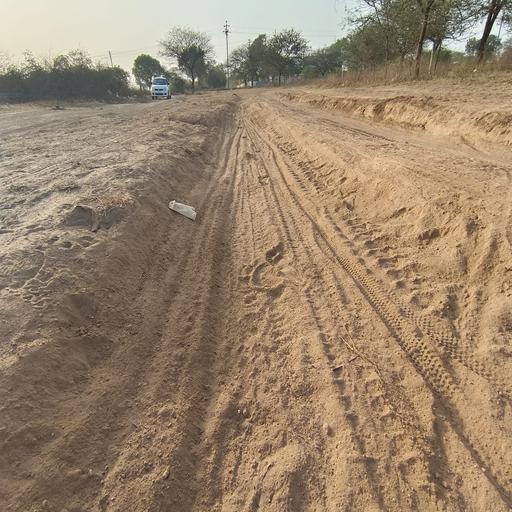vehicle_track: (68, 111, 512, 512), (267, 99, 512, 229)
